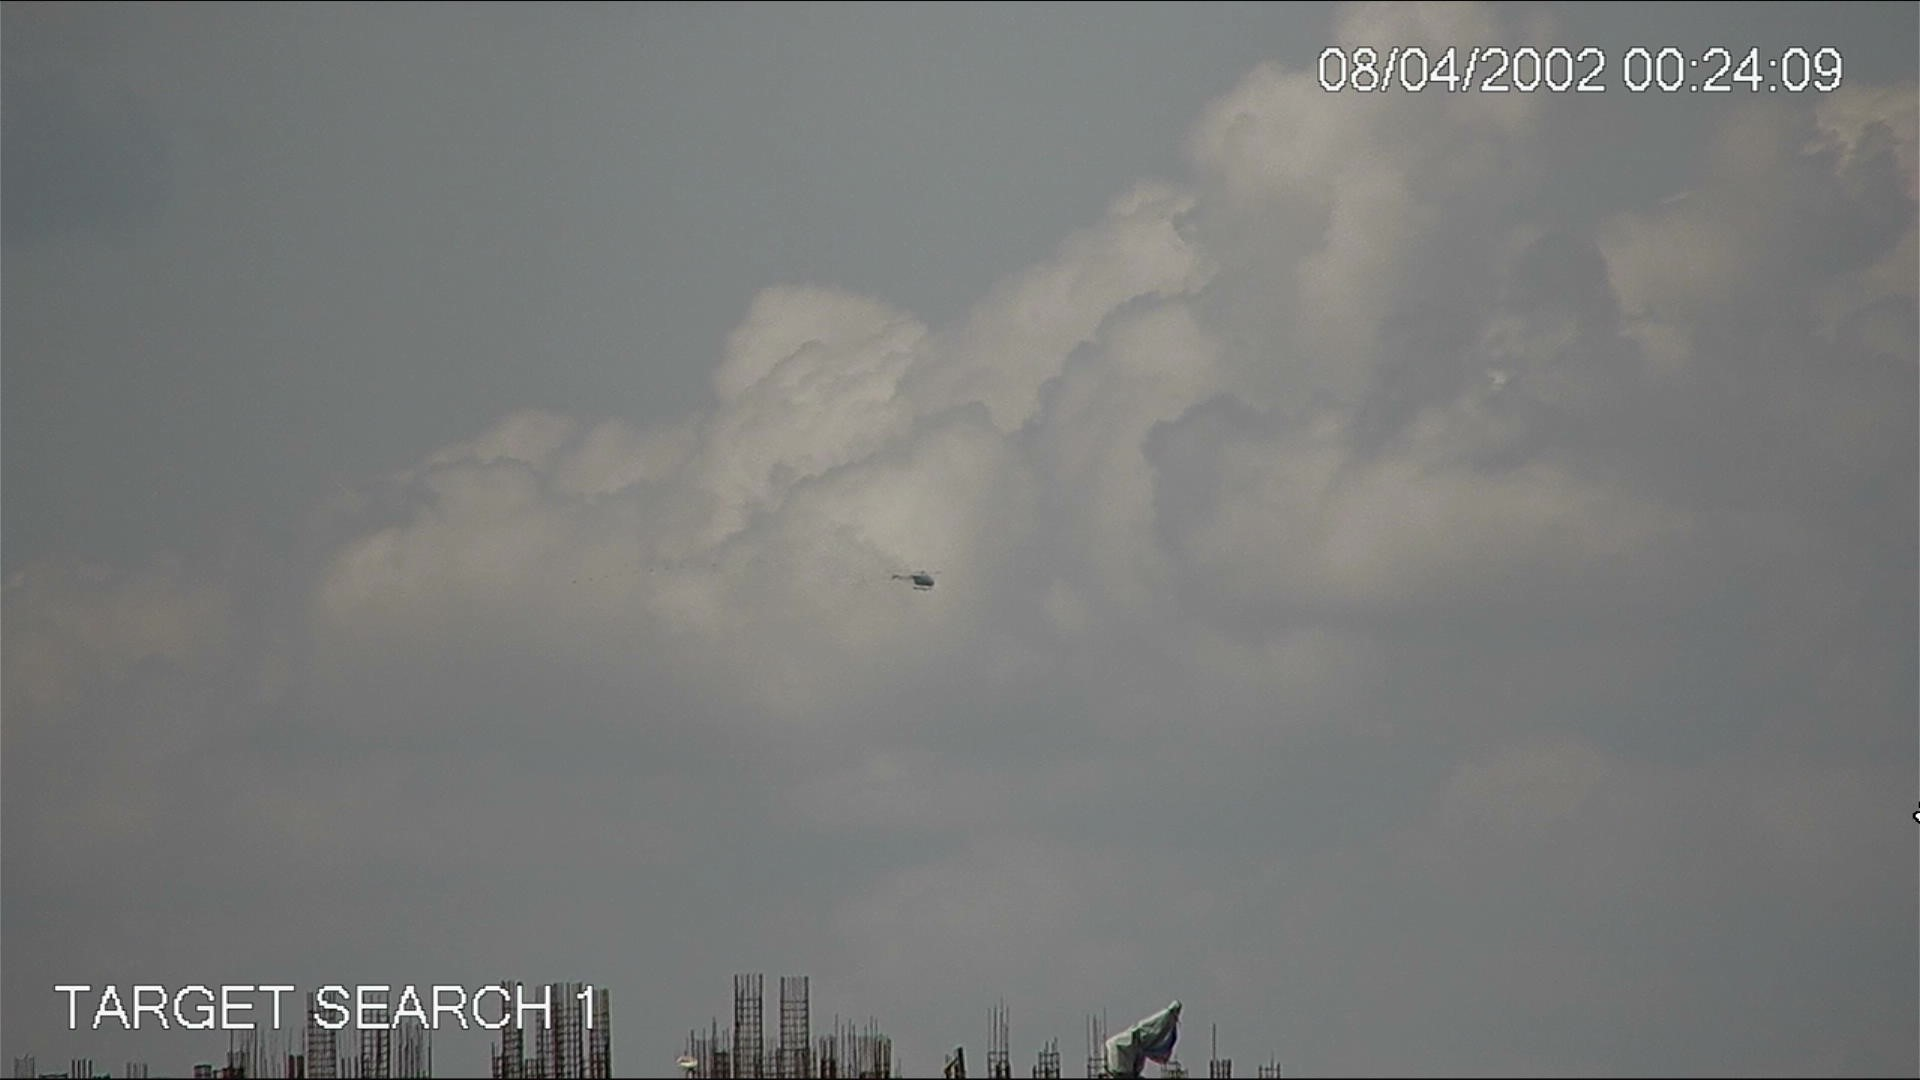SU_30: (890, 568, 945, 593)
